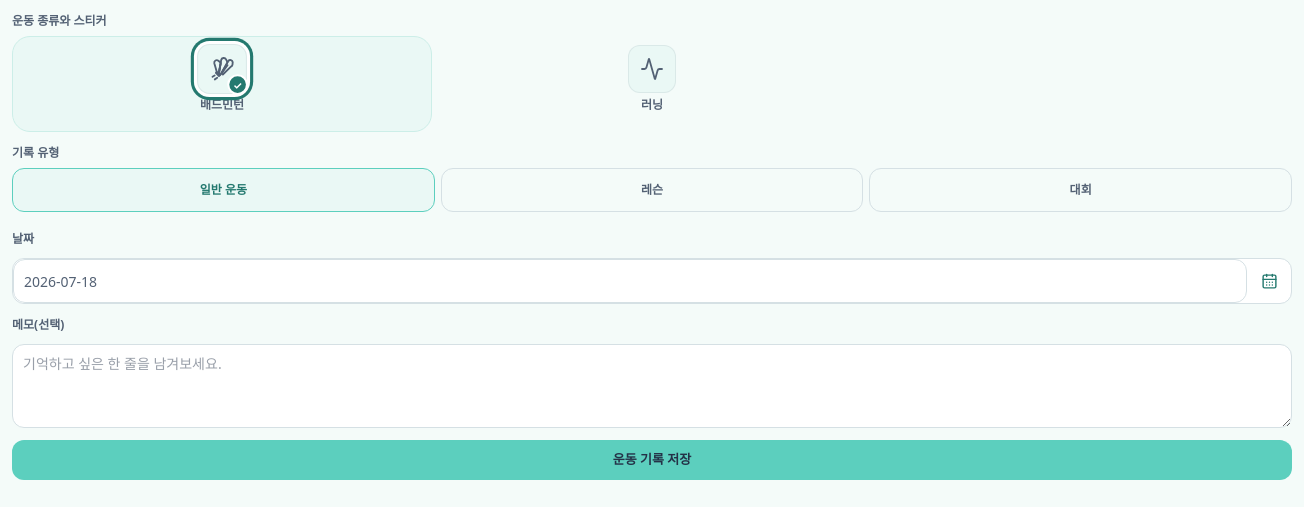
Scenario: ExerciseStickerPicker › clears selection and disables save when the selected type has no available sticker
The image size is (1304, 507).
Click the radio button labelled "레슨".
click(652, 193)  # box x1=441 y1=168 x2=863 y2=218
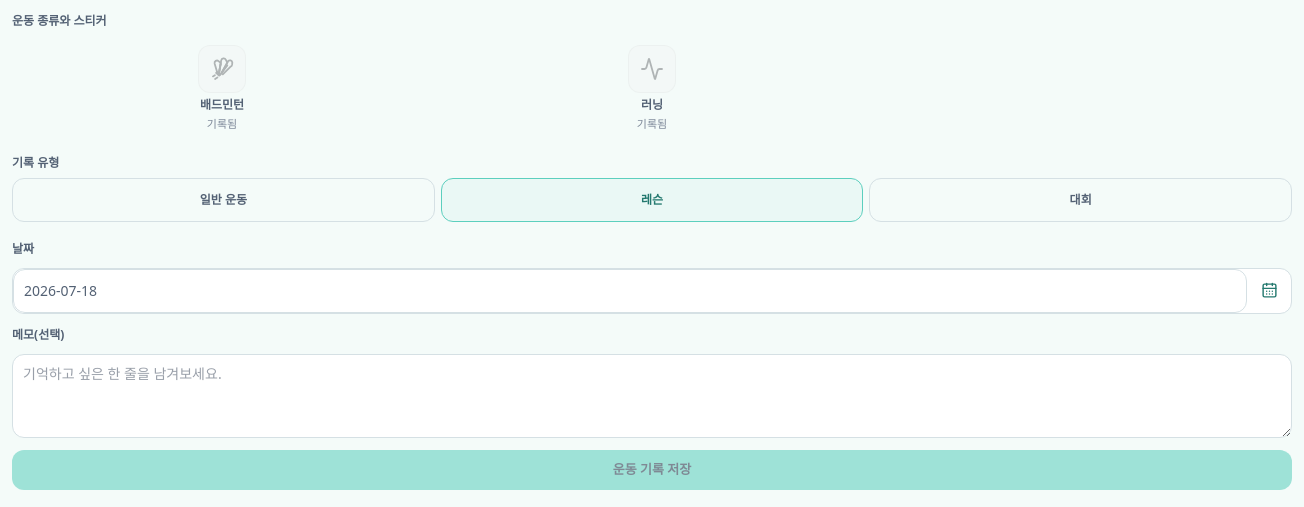
Expected: the button "운동 기록 저장" is disabled, x1=12 y1=450 x2=1292 y2=490
